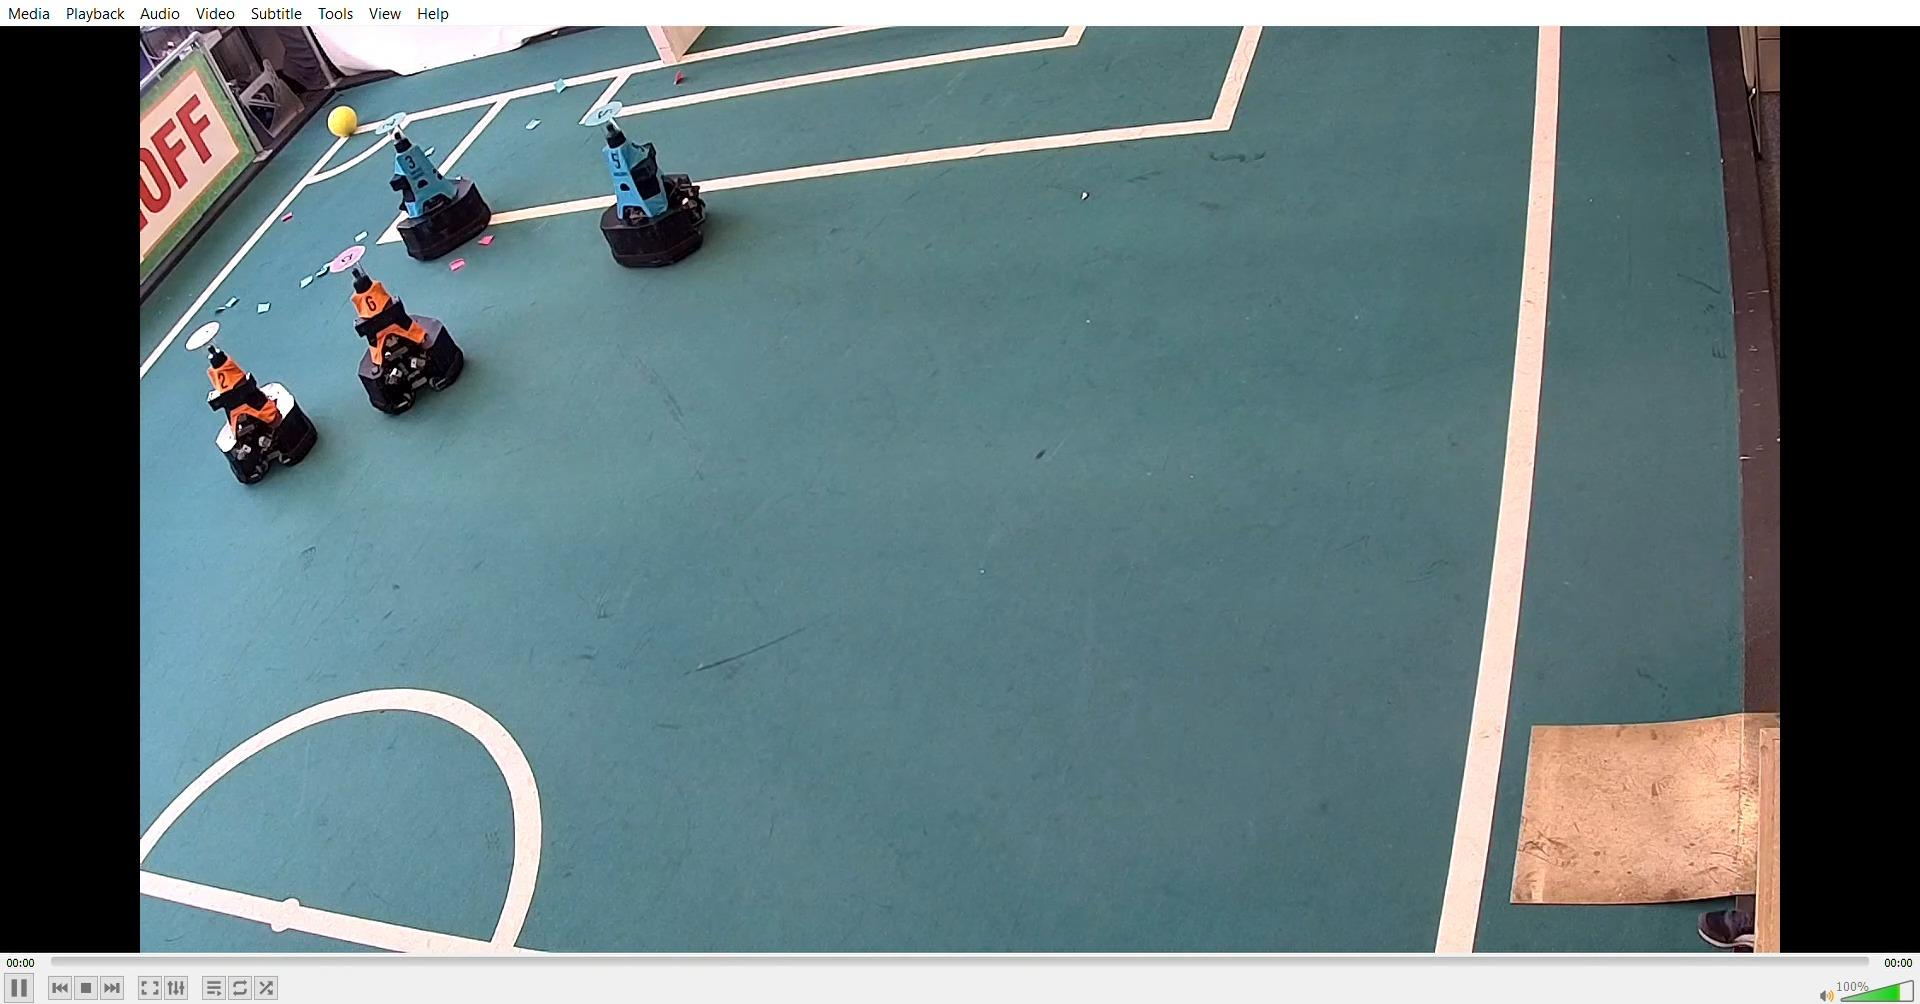Ball: (334, 104, 368, 136)
Team_Blue: (582, 91, 721, 272), (368, 107, 499, 264)
Team_Red: (325, 236, 470, 413), (183, 316, 321, 489)
